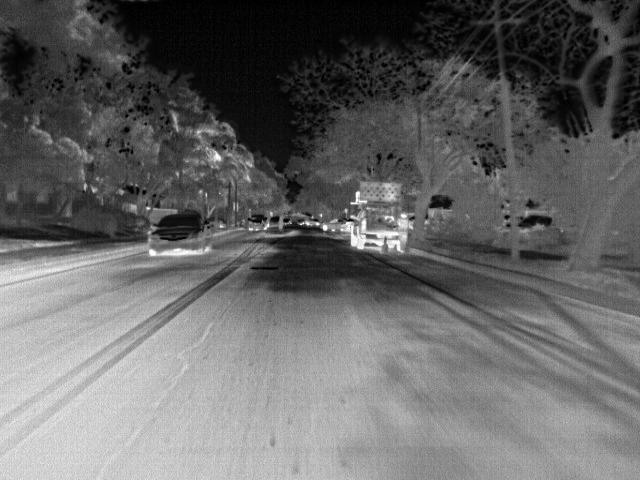car: (348, 178, 399, 250), (146, 212, 215, 258), (517, 212, 552, 229), (320, 214, 348, 232), (248, 213, 269, 232), (269, 214, 279, 227), (283, 217, 294, 227), (309, 217, 319, 227), (298, 217, 305, 227)
person: (397, 212, 412, 251)
